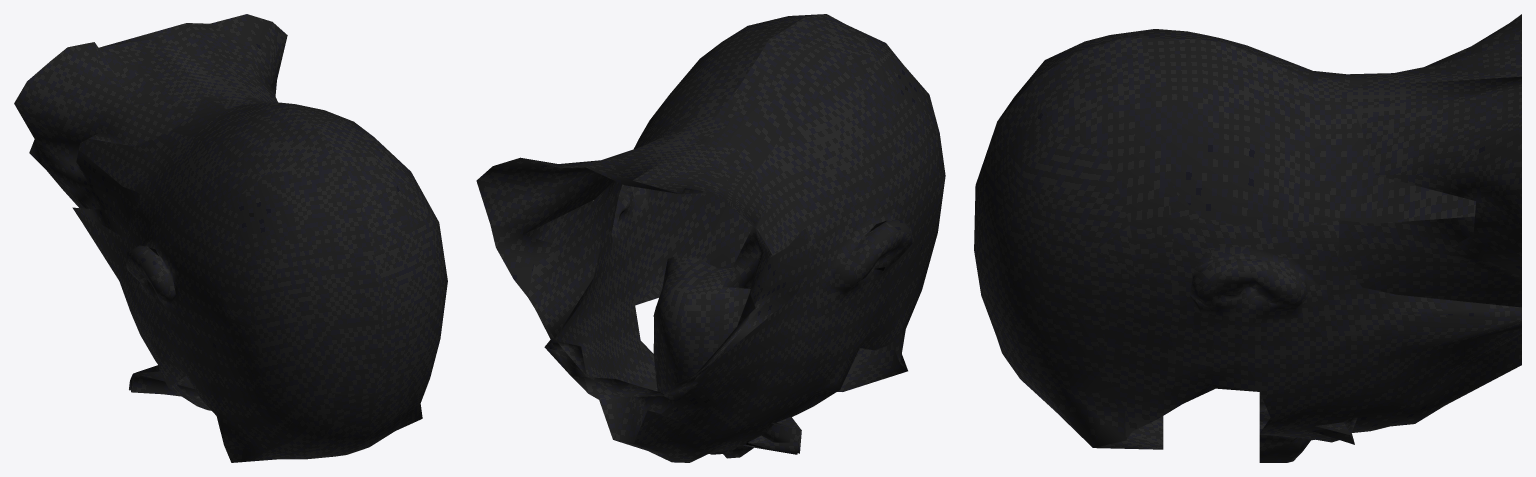
File: balaclava.glb
3 renders of one model, left to right at view 1: azimuth 30°, elevation 25°; view 2: azimuth 150°, elevation 25°; view 3: azimuth 270°, elevation 25°, orthographic. The views are drawn at different scales.
Parts seen in each view (by area): view 1: balaclava_ground; view 2: balaclava_ground; view 3: balaclava_ground.
Boxes of the visible parts, bbox=[...] form: balaclava_ground: bbox=[14, 14, 447, 462]; balaclava_ground: bbox=[476, 14, 945, 462]; balaclava_ground: bbox=[974, 14, 1521, 462].
Size of the model in its own units: 0.1865 by 0.2325 by 0.2729.
Materials: 1 (1 with a texture image).
